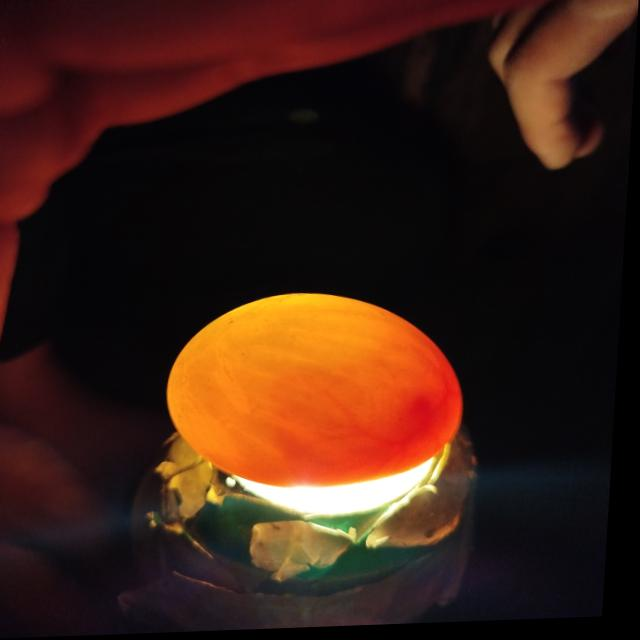Gema Quebrada: (313, 332, 466, 484)
